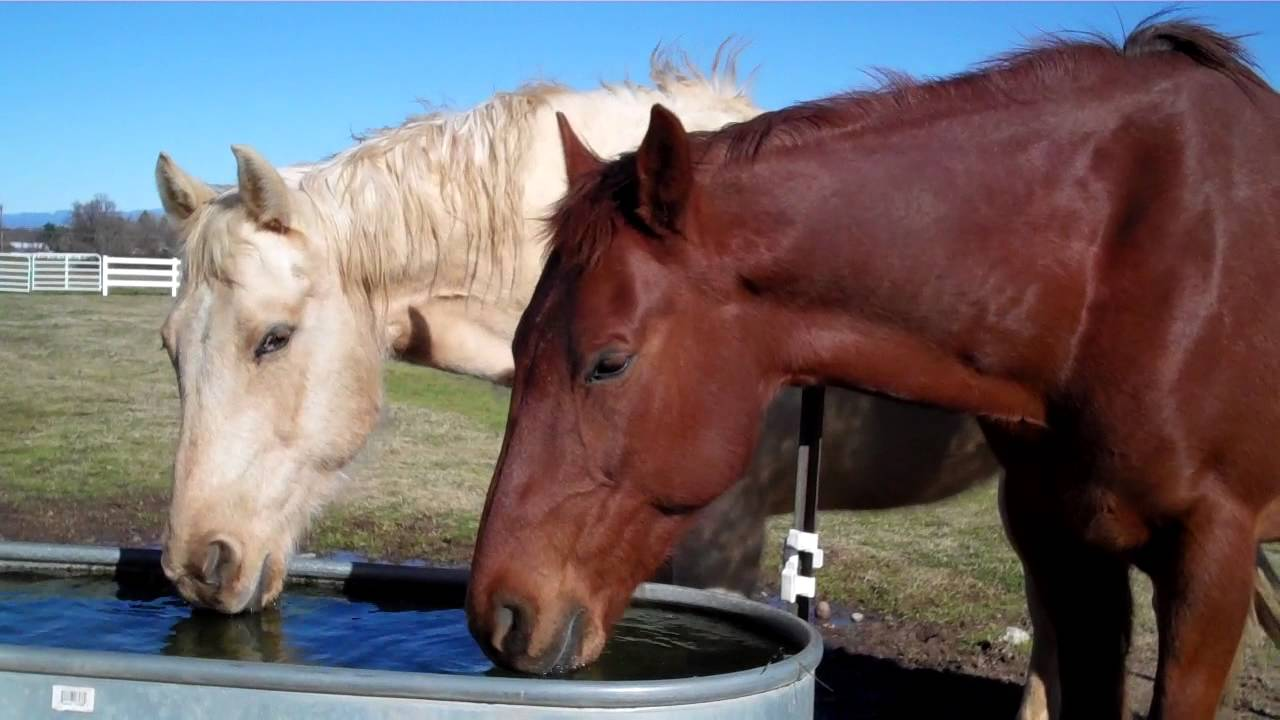Horse: (497, 81, 1253, 636), (84, 57, 471, 618)
